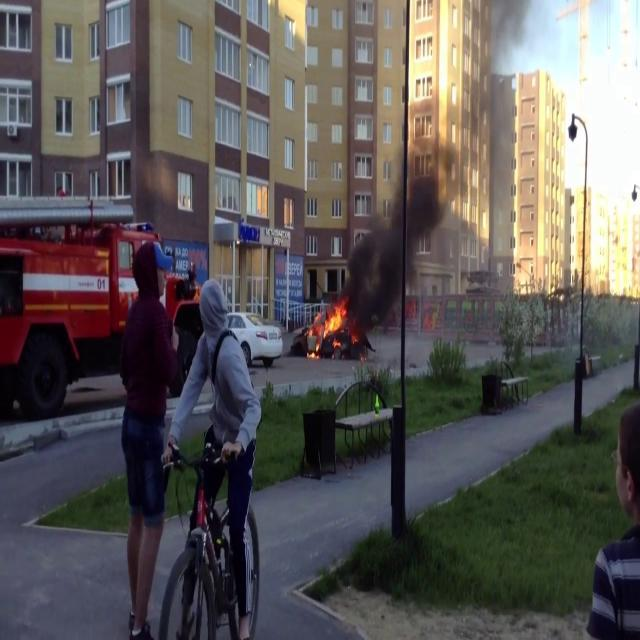Fire: (308, 295, 348, 354)
Smoke: (348, 139, 446, 335)
